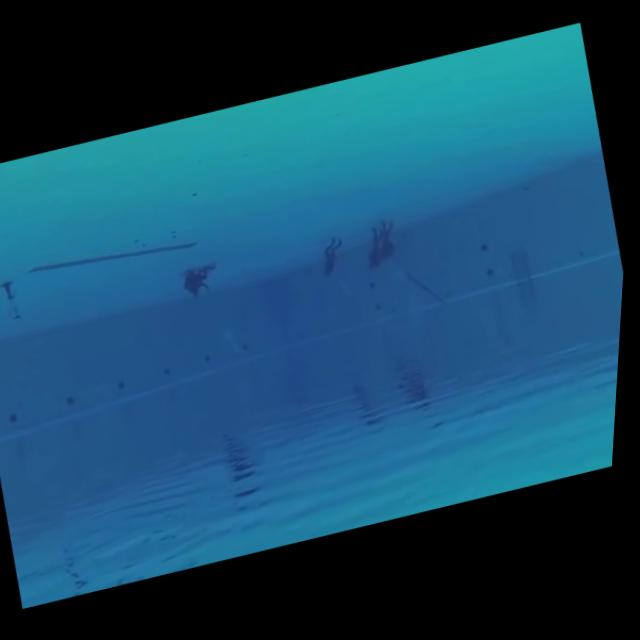human: (173, 253, 231, 311), (312, 230, 359, 288), (357, 219, 398, 278), (373, 211, 409, 271)
